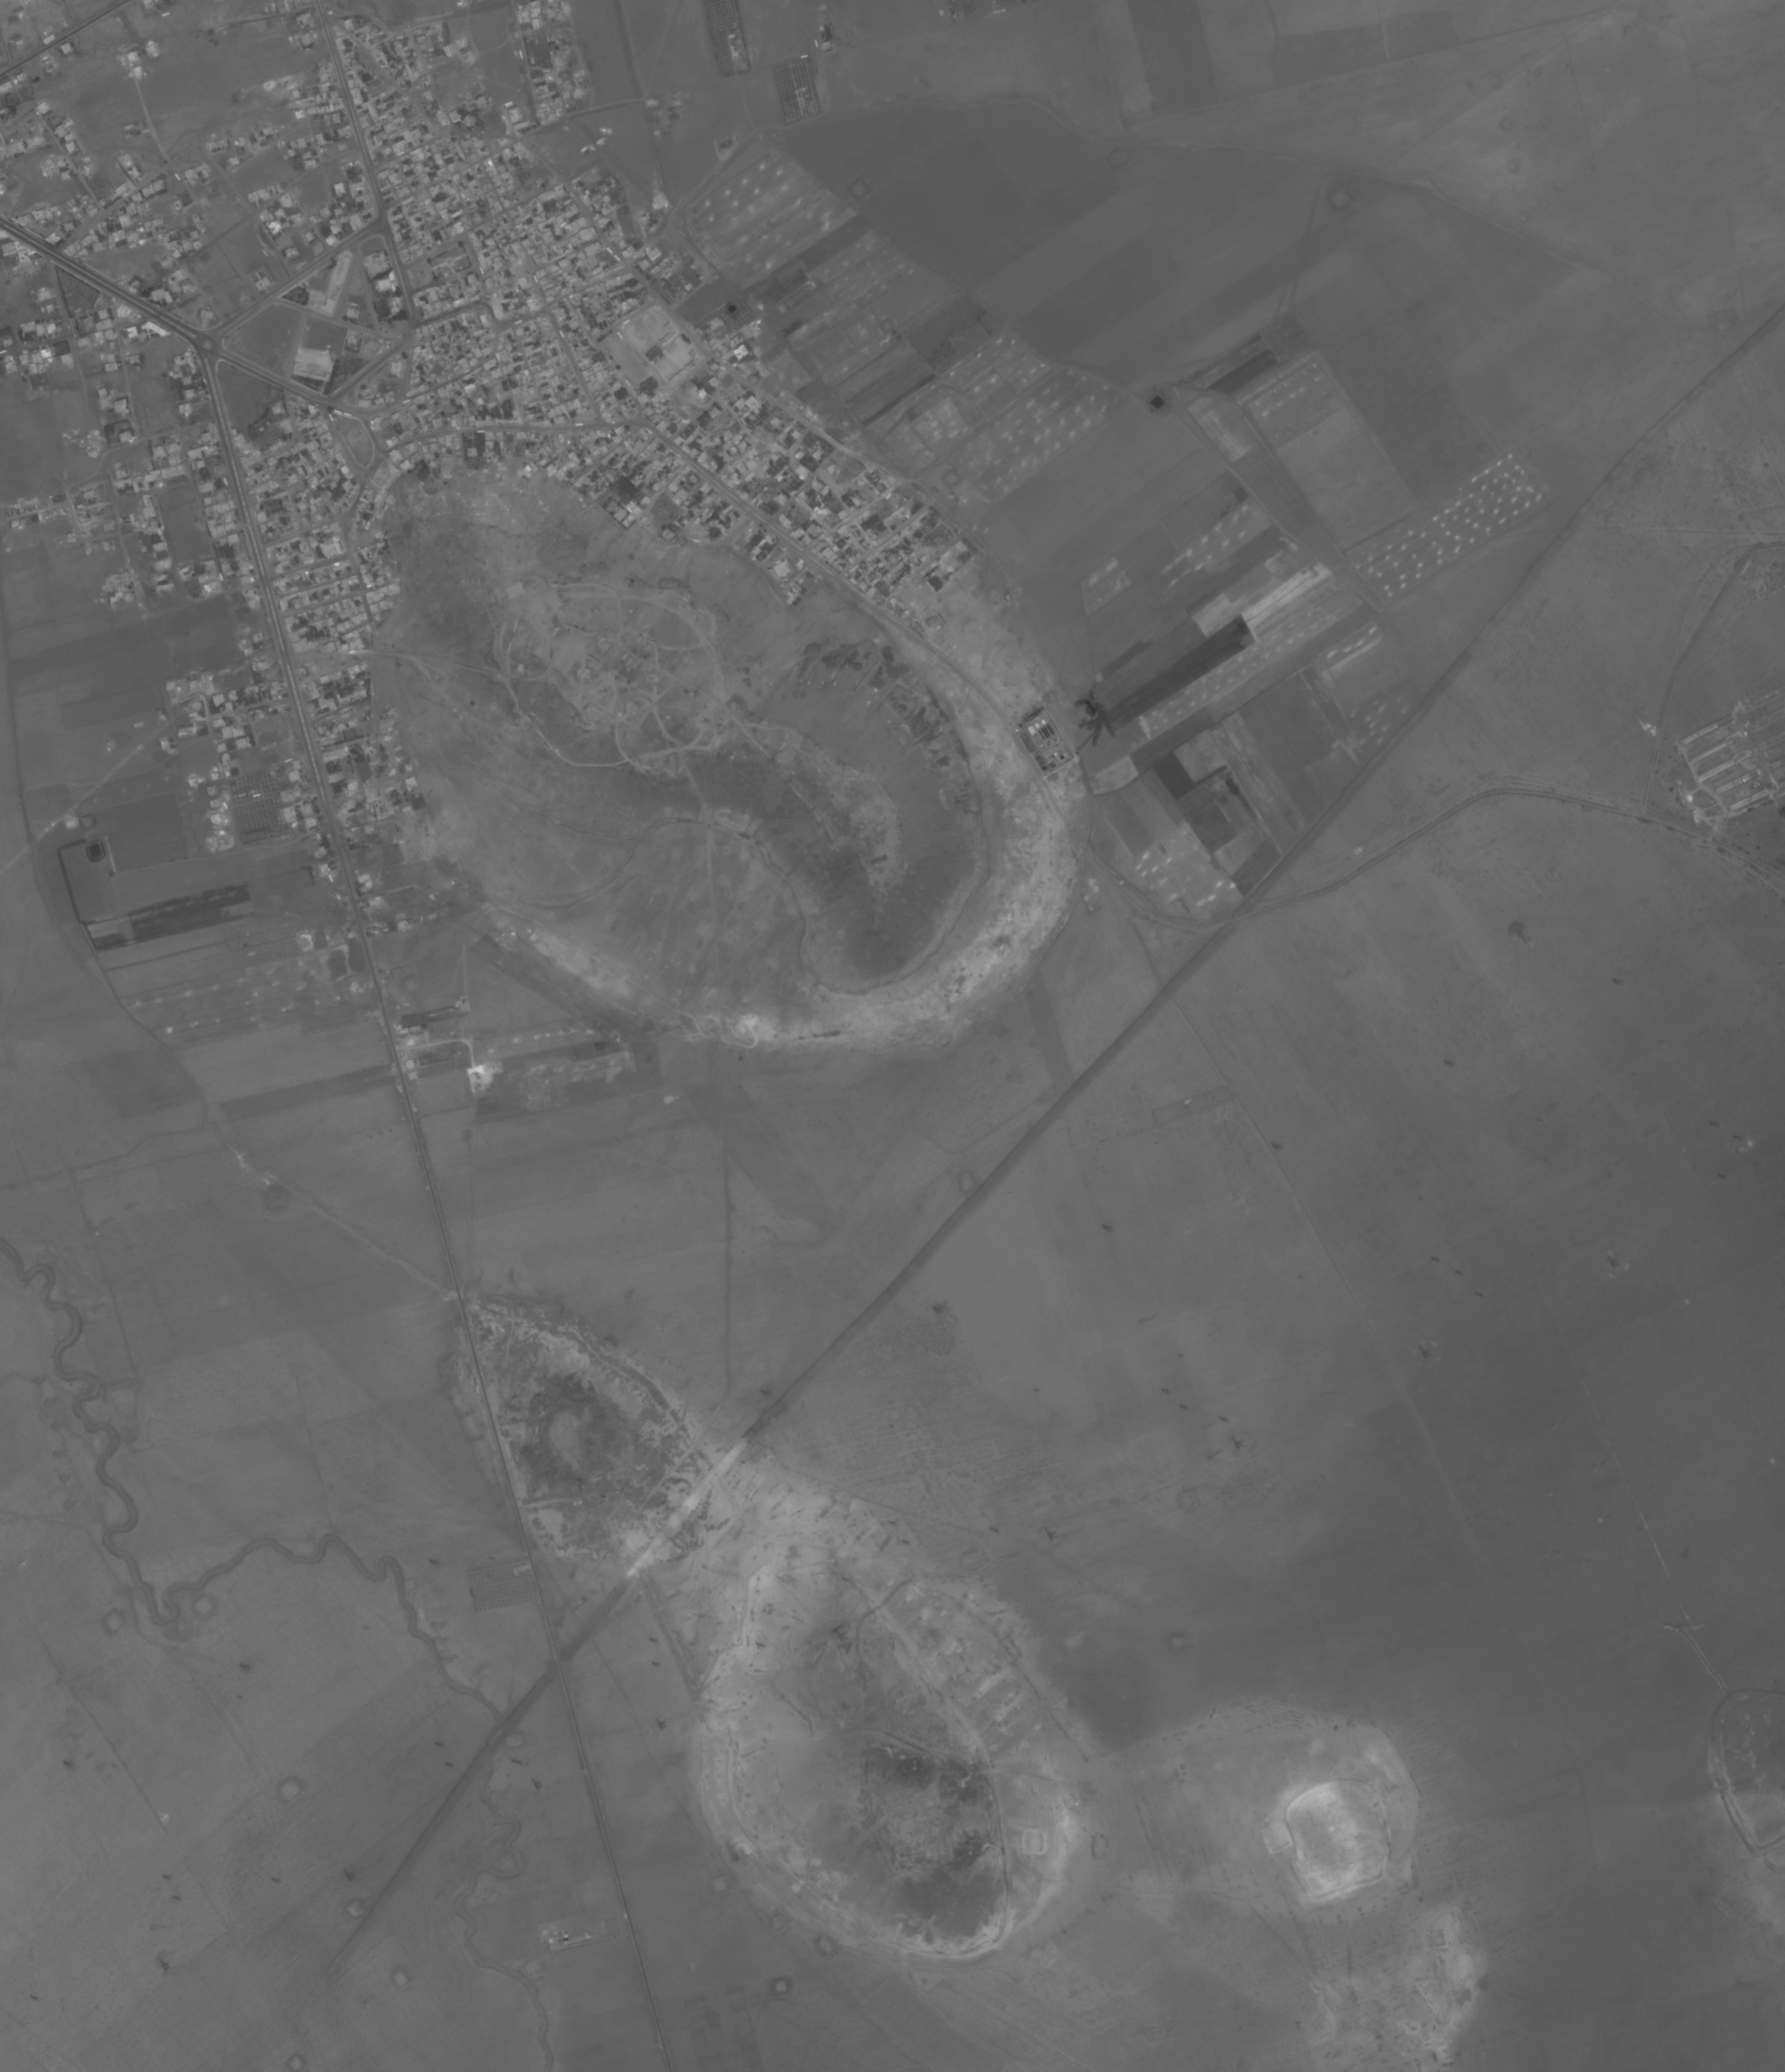roundabout: (201, 338, 215, 351)
